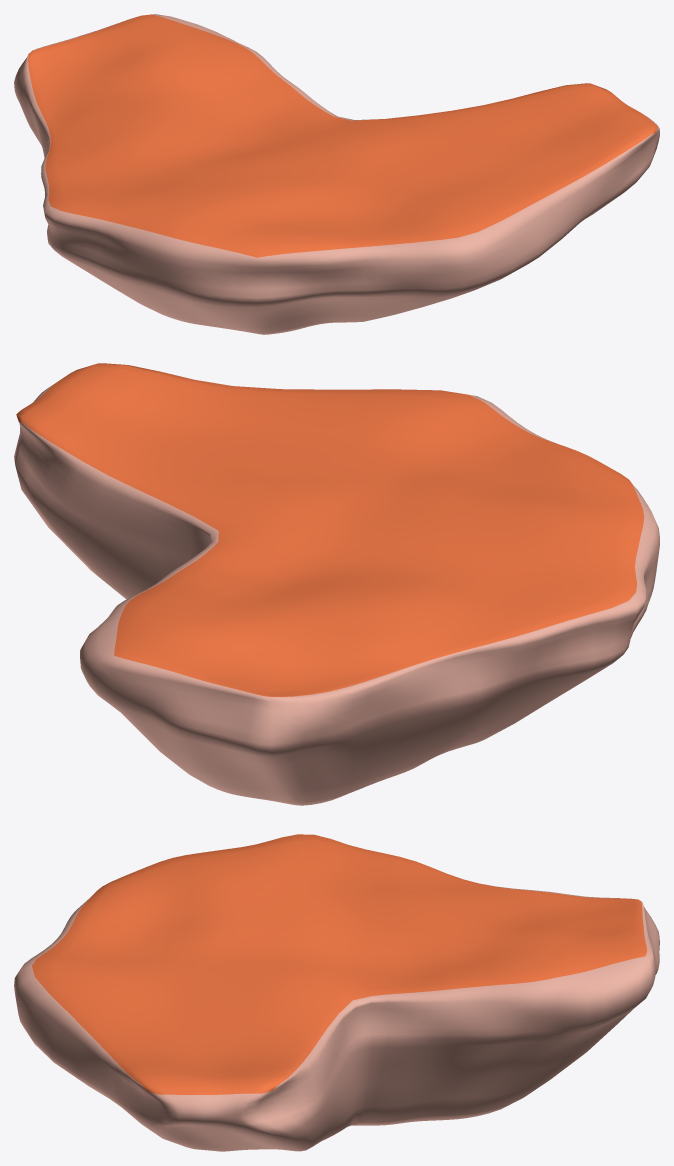
The model's file is WEB3_BIGISLAND_REMESHED_ISLAND.gltf.
The picture shows the model from 3 angles, top to bottom: view 1: azimuth 30°, elevation 25°; view 2: azimuth 150°, elevation 25°; view 3: azimuth 270°, elevation 25°; orthographic projection. The views are drawn at different scales.
Parts seen in each view (by area): view 1: Island; view 2: Island; view 3: Island.
Boxes of the visible parts, <box> form: Island: <box>14,14,659,334</box>; Island: <box>14,363,659,805</box>; Island: <box>14,834,659,1151</box>.
Bounding box in the file's own units: 9.26 × 2.72 × 9.2.
